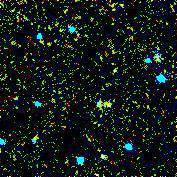star: (103, 0, 133, 29)
